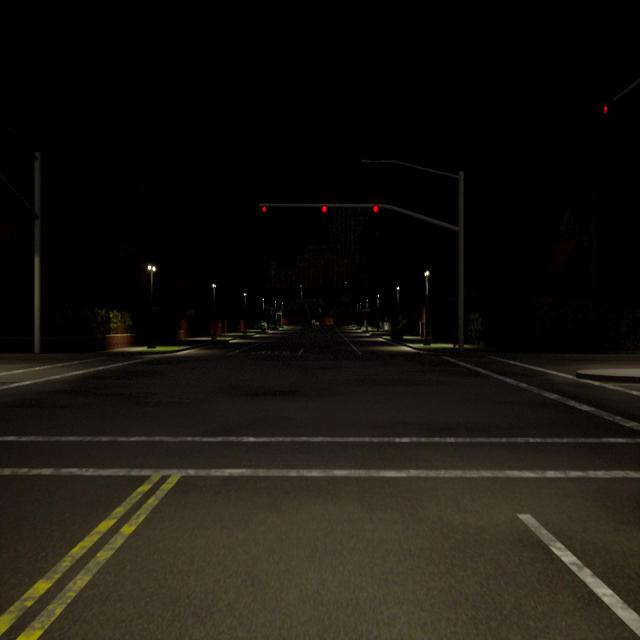traffic_light: (373, 204, 379, 212), (322, 205, 326, 213), (262, 205, 266, 212), (604, 106, 607, 114)
